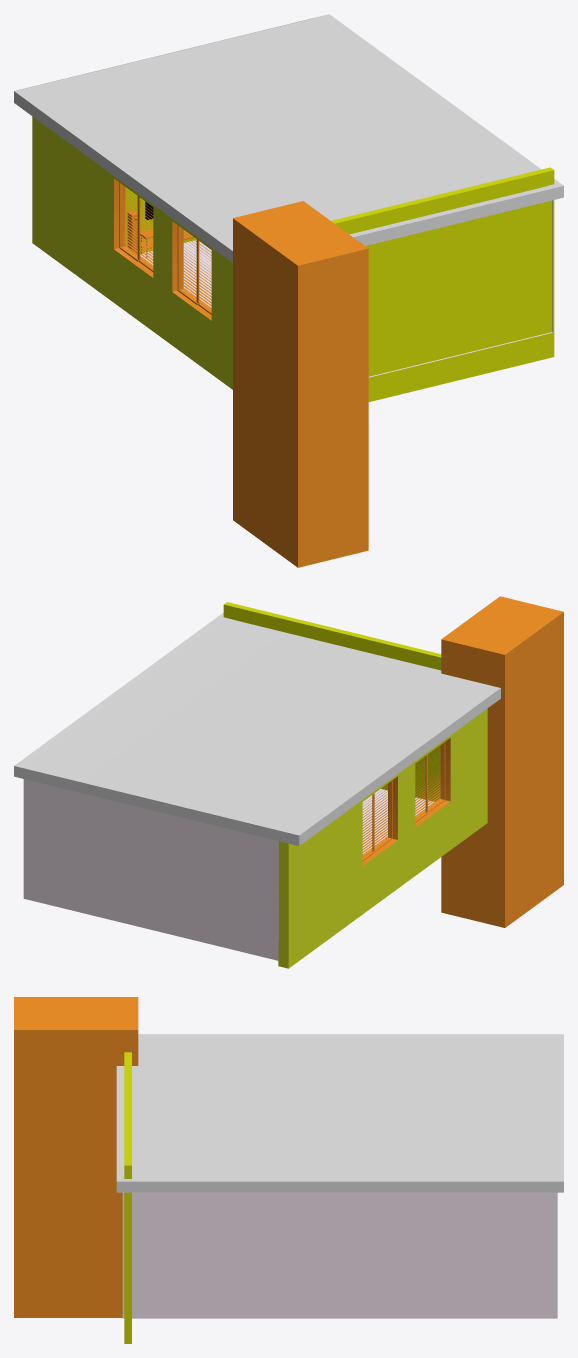
The model's file is roomn.fbx.
The picture shows the model from 3 angles, top to bottom: view 1: azimuth 30°, elevation 25°; view 2: azimuth 150°, elevation 25°; view 3: azimuth 270°, elevation 25°; orthographic projection. The views are drawn at different scales.
Visible parts, largest first — view 1: Decke, Würfel.1, Würfel, Wand_Fenster, Wand, Würfel.5_2, Würfel.4_3, Würfel.1_2; view 2: Decke, Wand, Würfel.1, Wand_Fenster, Würfel, Würfel.5_2, Würfel.4_3; view 3: Decke, Wand, Würfel.1, Würfel.
Boxes of the visible parts, left/top/right/bottom form: Decke: left=14, top=14, right=563, bottom=262; Würfel.1: left=233, top=201, right=368, bottom=567; Würfel: left=331, top=167, right=554, bottom=401; Wand_Fenster: left=32, top=116, right=232, bottom=389; Wand: left=140, top=200, right=552, bottom=377; Würfel.5_2: left=172, top=221, right=211, bottom=320; Würfel.4_3: left=114, top=179, right=153, bottom=277; Würfel.1_2: left=125, top=187, right=196, bottom=252; Decke: left=14, top=612, right=500, bottom=845; Wand: left=23, top=779, right=435, bottom=960; Würfel.1: left=441, top=596, right=563, bottom=927; Wand_Fenster: left=278, top=708, right=487, bottom=968; Würfel: left=223, top=602, right=441, bottom=801; Würfel.5_2: left=415, top=738, right=450, bottom=827; Würfel.4_3: left=362, top=776, right=397, bottom=865; Decke: left=116, top=1034, right=563, bottom=1192; Wand: left=122, top=1192, right=557, bottom=1318; Würfel.1: left=14, top=997, right=138, bottom=1317; Würfel: left=124, top=1052, right=131, bottom=1343.
Size of the model in its own units: 56668 by 51145 by 88503.
